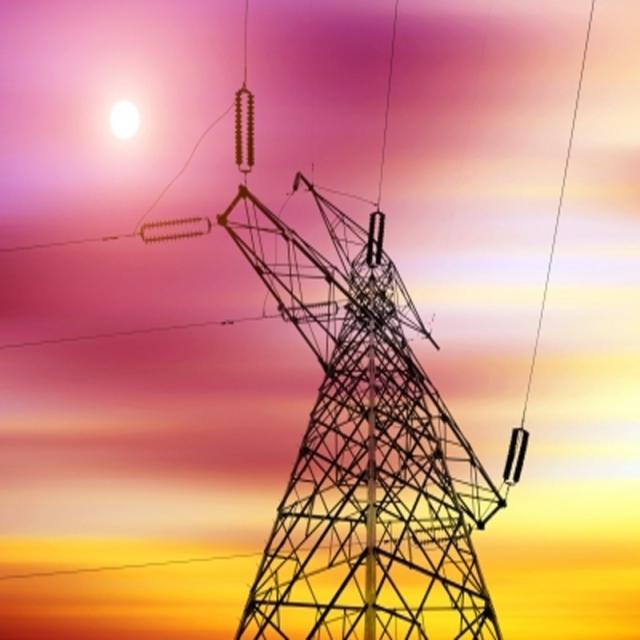non-critical vegetation: (210, 170, 508, 635)
